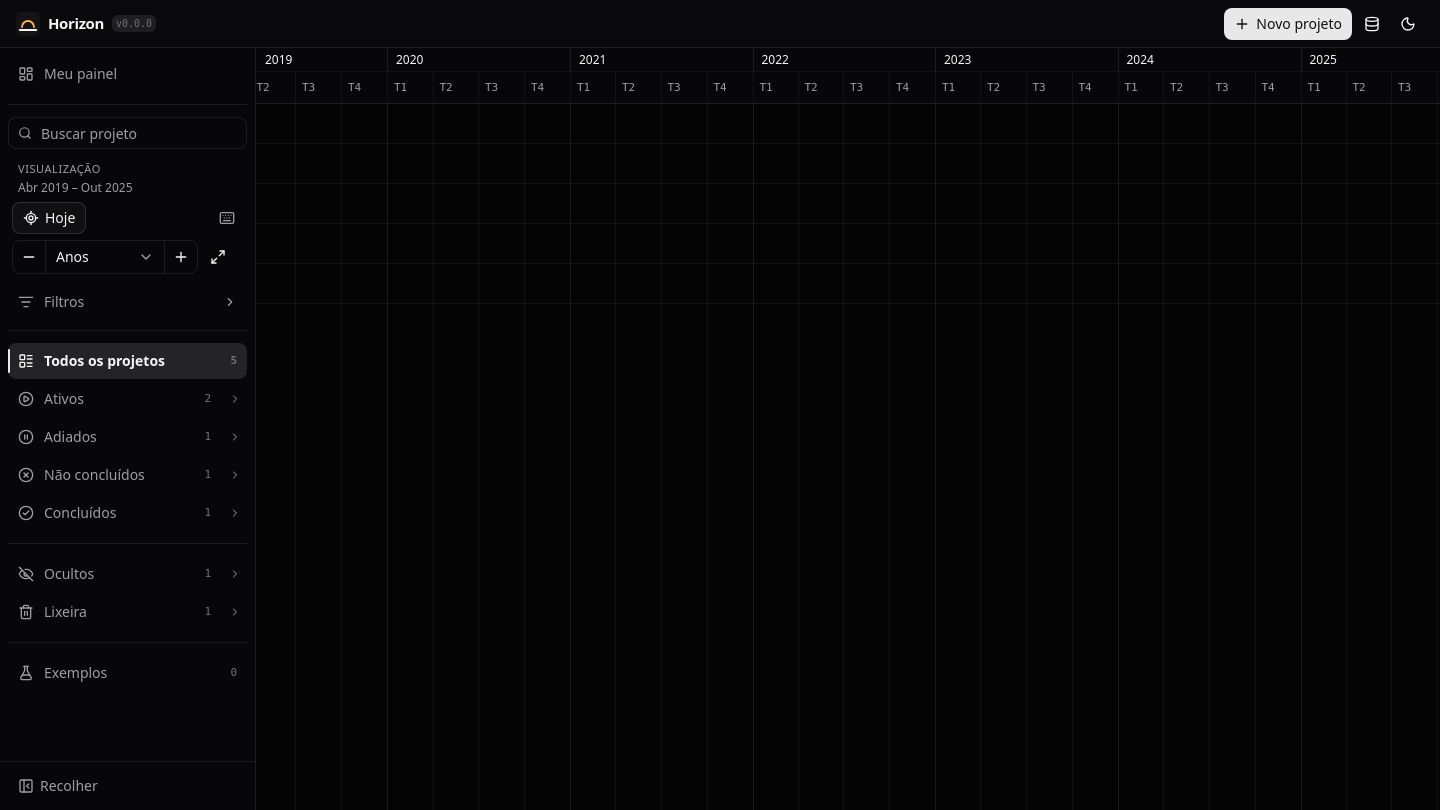
Test: navigation sidebar › lists the projects of a section, sorted, and opens one
Click the button named "Mostrar projetos de Ativos" at (235, 398), box top-left (223, 386), bottom-right (247, 410)
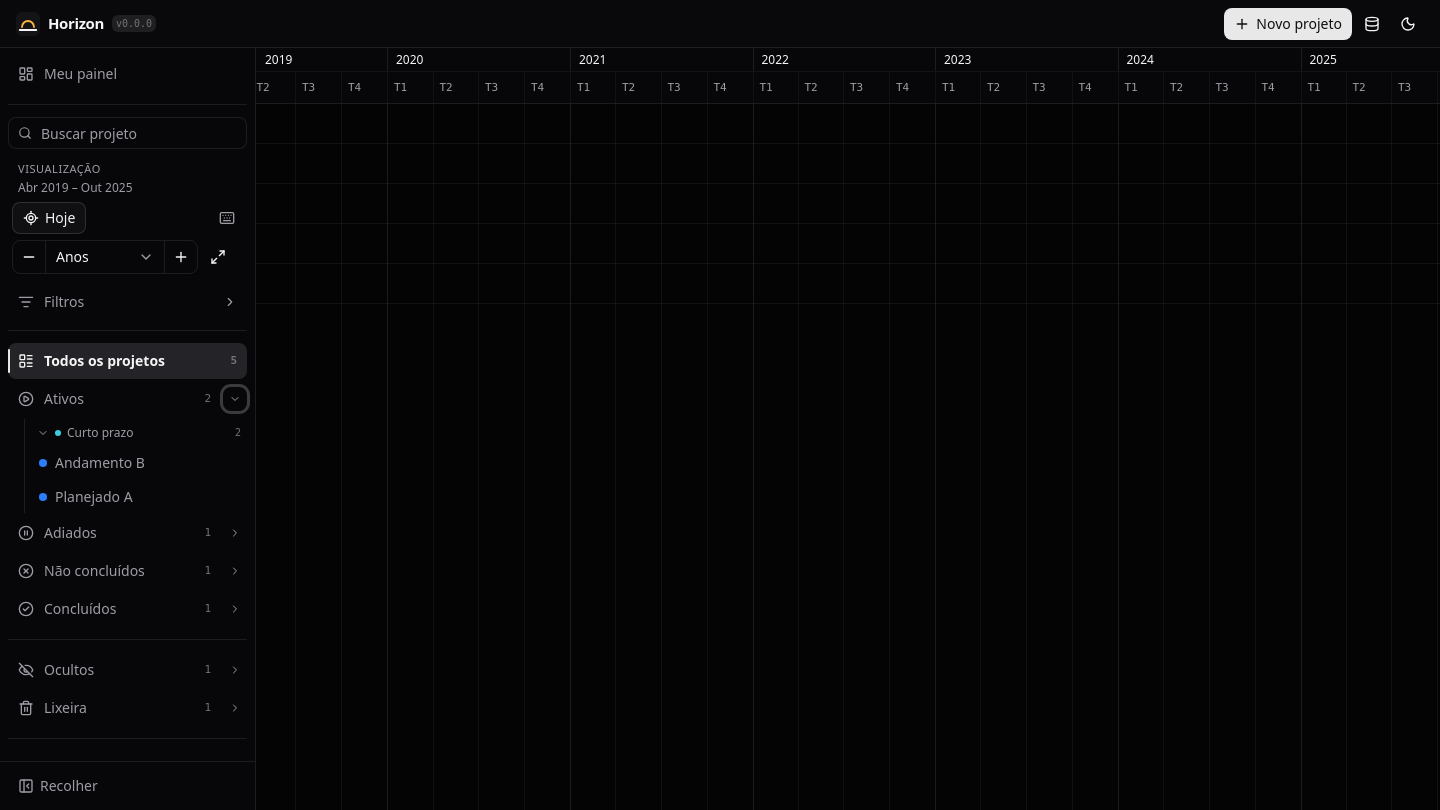
expect the links read "Andamento B", "Planejado A", in this order: met, box top-left (39, 452), bottom-right (145, 472); top-left (39, 486), bottom-right (133, 506)
expect the button named "Ocultar projetos de Ativos" is expanded: met, box top-left (223, 386), bottom-right (247, 410)
